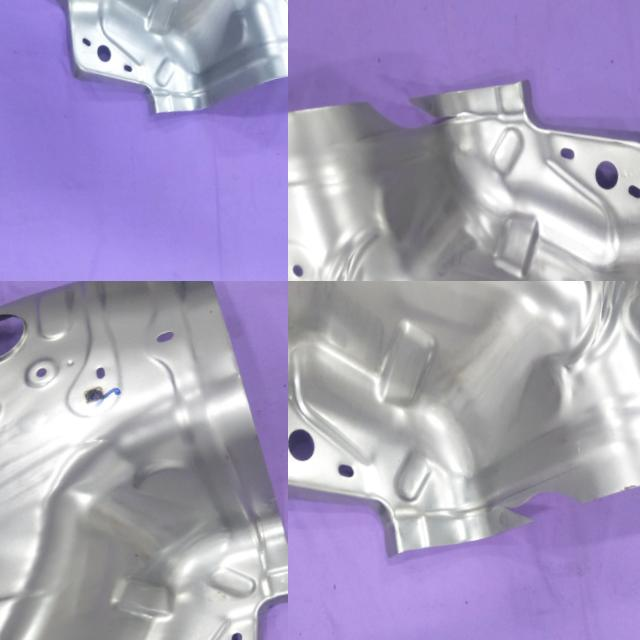Defect: (348, 64, 466, 165), (476, 463, 594, 552)
Healthy: (0, 281, 288, 640), (7, 0, 288, 145)
